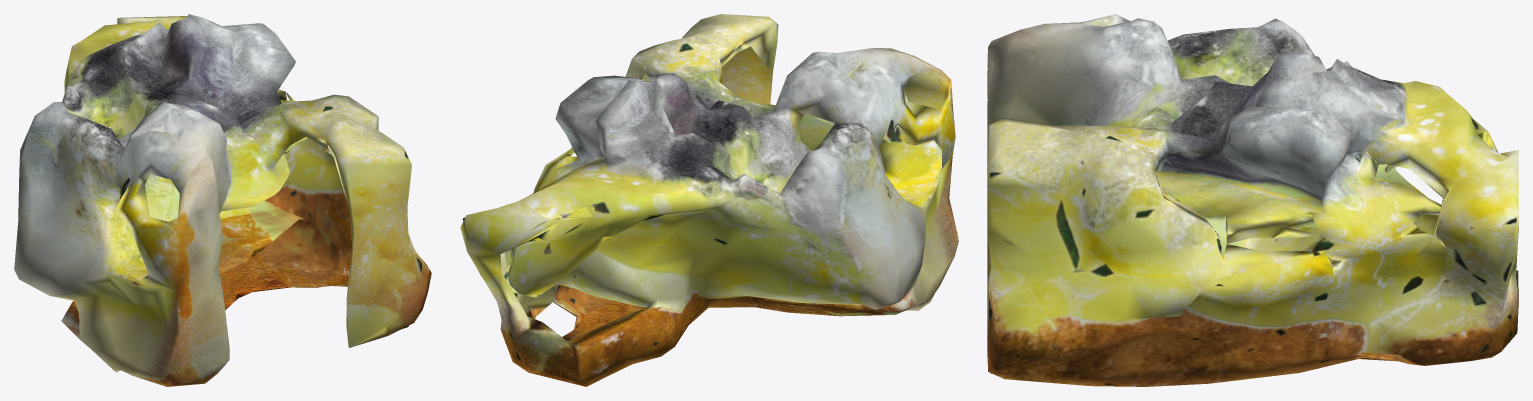
Rendered from LetMeEatCake01.glb.
3 renders of one model, left to right at view 1: azimuth 30°, elevation 25°; view 2: azimuth 150°, elevation 25°; view 3: azimuth 270°, elevation 25°, orthographic. The views are drawn at different scales.
Visible parts, largest first — view 1: Mesh_0; view 2: Mesh_0; view 3: Mesh_0.
Boxes of the visible parts, x1,y1,x2,y2 form: Mesh_0: (14,14,431,386); Mesh_0: (460,14,958,386); Mesh_0: (987,14,1518,386).
Bounding box in the file's own units: 1.6 × 1.16 × 1.91.
Materials: 1 (1 with a texture image).
